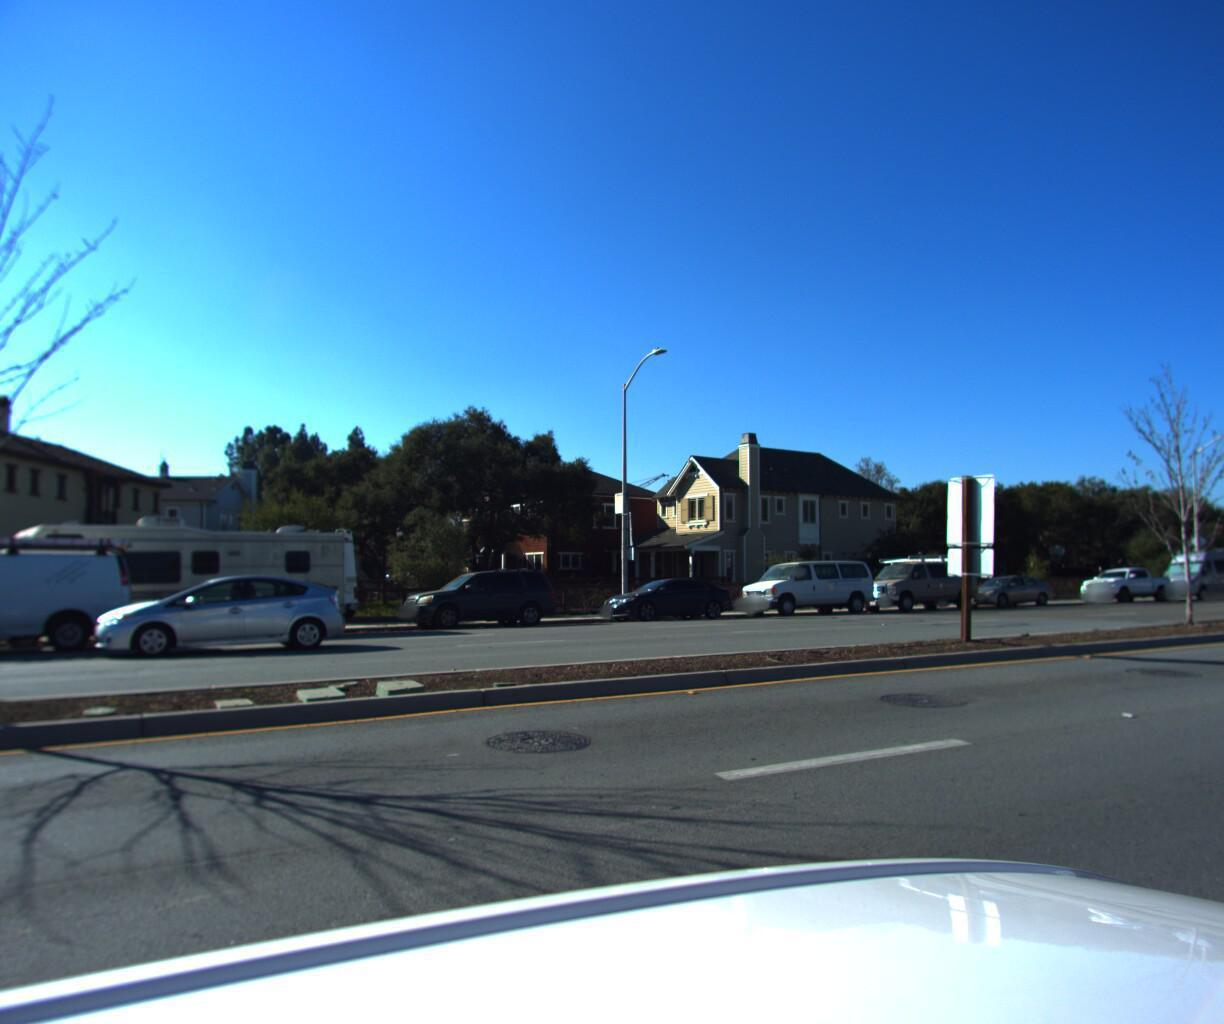car: (91, 571, 352, 658), (0, 528, 141, 670), (391, 564, 569, 630), (730, 551, 880, 615), (852, 551, 982, 609), (591, 574, 741, 623), (1142, 541, 1224, 599), (1069, 560, 1175, 601), (950, 573, 1058, 603)
other_vehicle: (0, 503, 370, 646)
